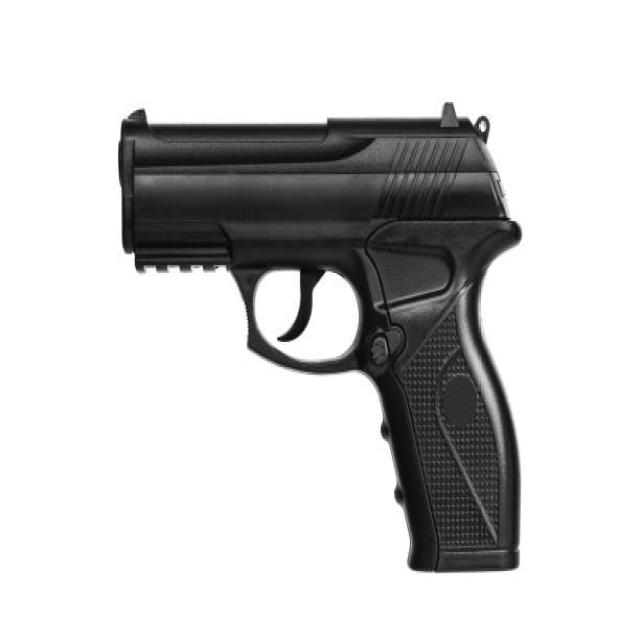pistol: (113, 95, 529, 582)
